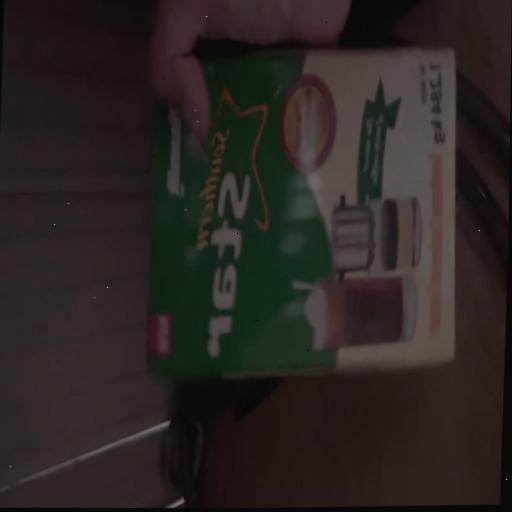ly_giay: (147, 48, 456, 378)
